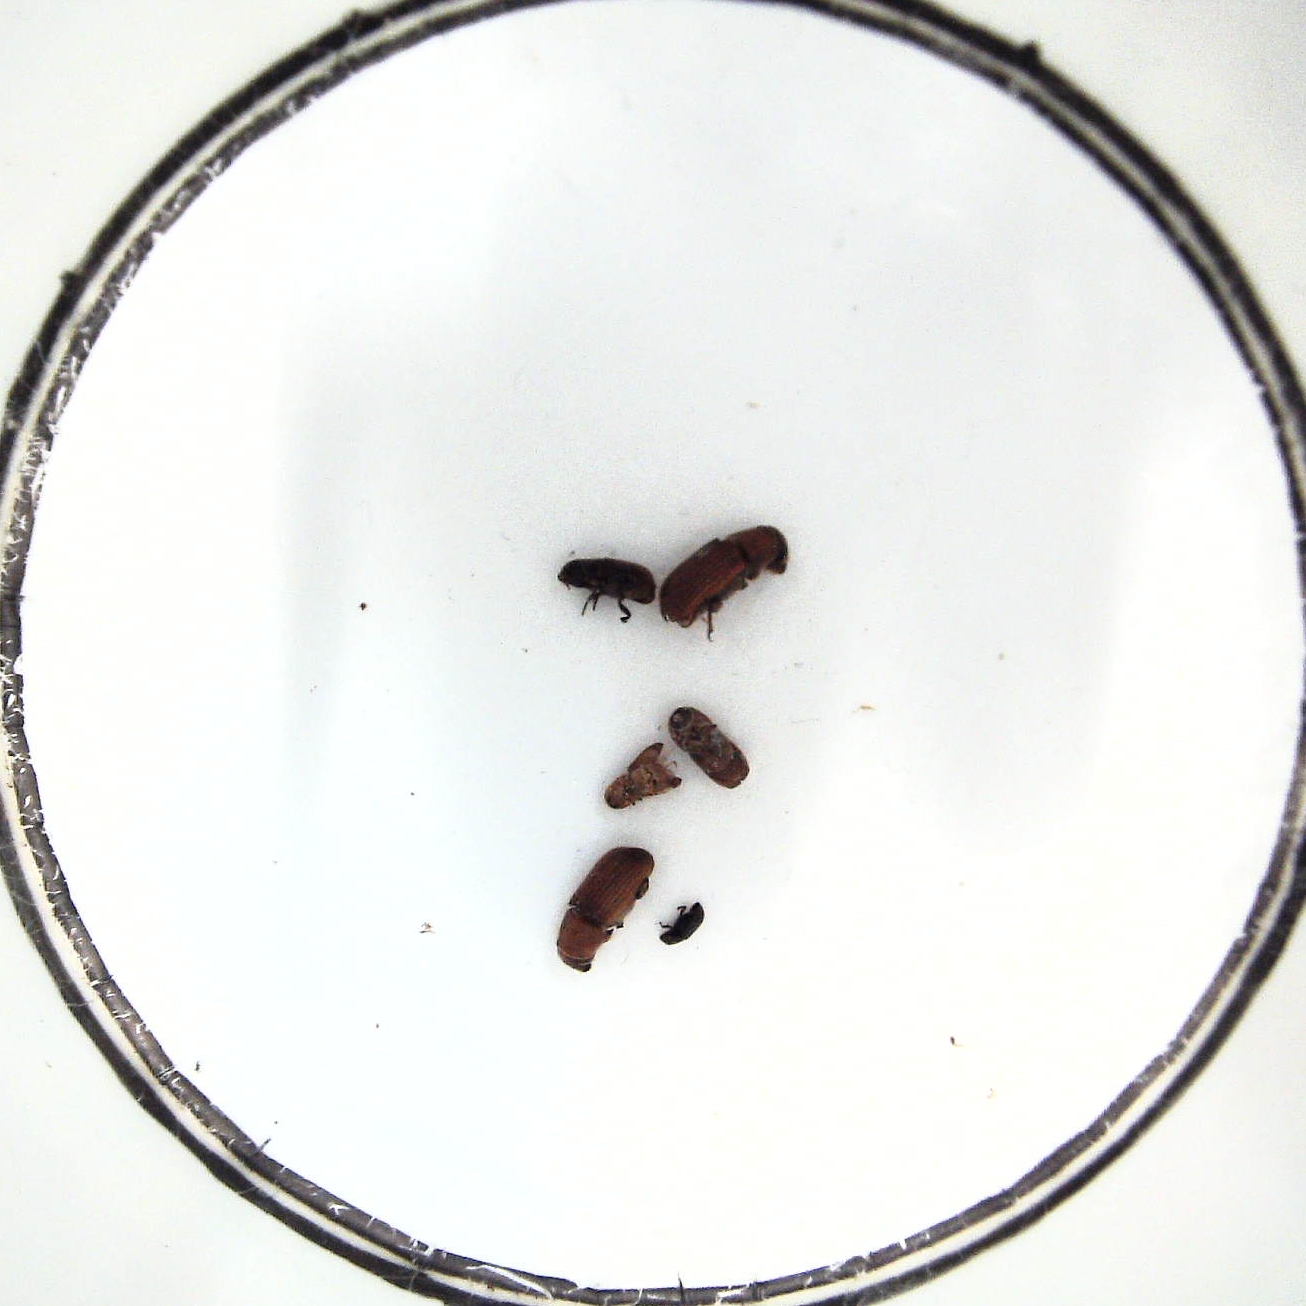Leconte: (659, 524, 791, 639), (555, 844, 657, 974)
Linnaeus: (667, 704, 752, 788)
acuminatus: (602, 742, 682, 810)
armandi: (556, 554, 659, 622)
coleoptera: (658, 897, 706, 945)
